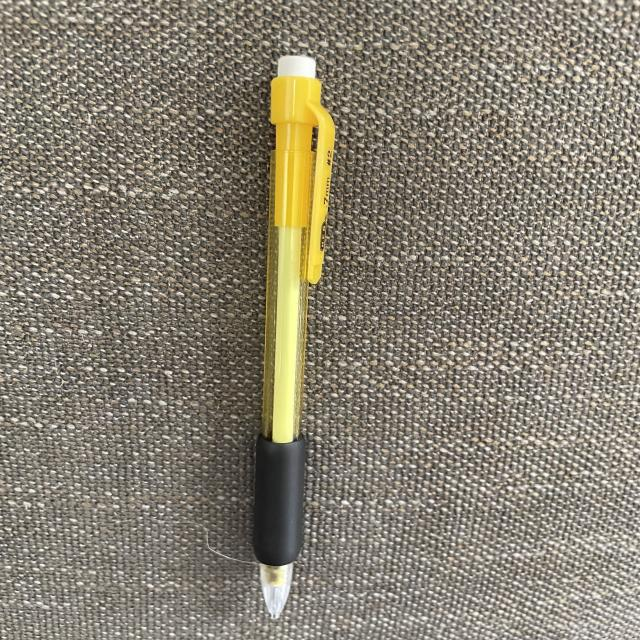mechanical-pencils: (256, 58, 339, 627)
